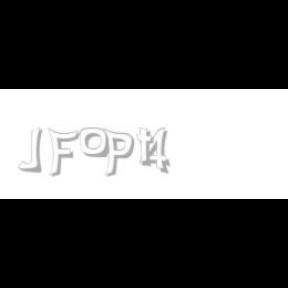4: (140, 128, 170, 174)
F: (47, 128, 79, 178)
J: (18, 128, 42, 172)
P: (103, 128, 135, 178)
o: (80, 128, 108, 158)
t: (136, 128, 158, 168)
